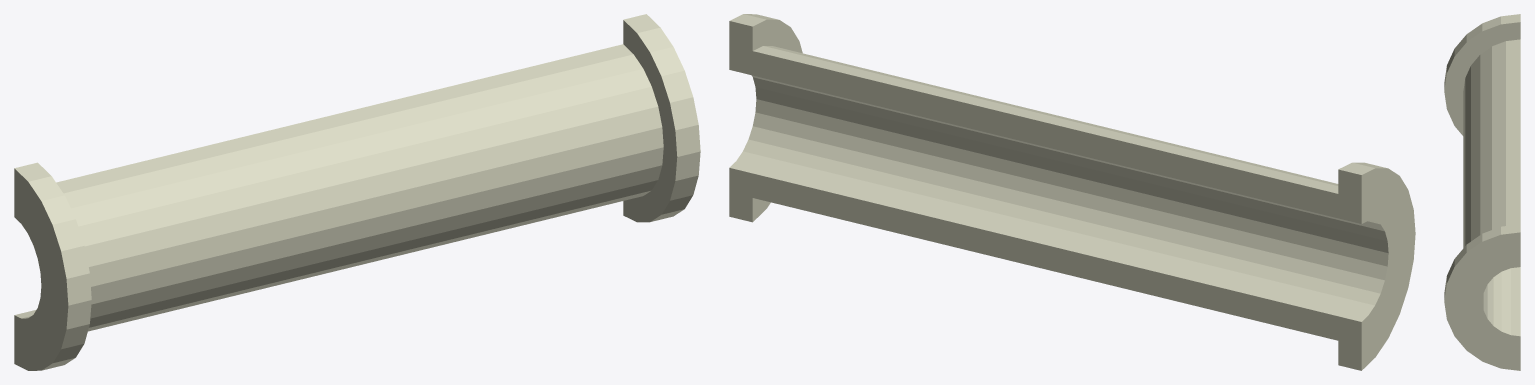
The model's file is section_158.obj.
3 views of the same model, side by side, from view 1: azimuth 30°, elevation 25°; view 2: azimuth 150°, elevation 25°; view 3: azimuth 270°, elevation 25° (orthographic). The views are drawn at different scales.
Bounding box in the file's own units: 27.03 × 8 × 4.
